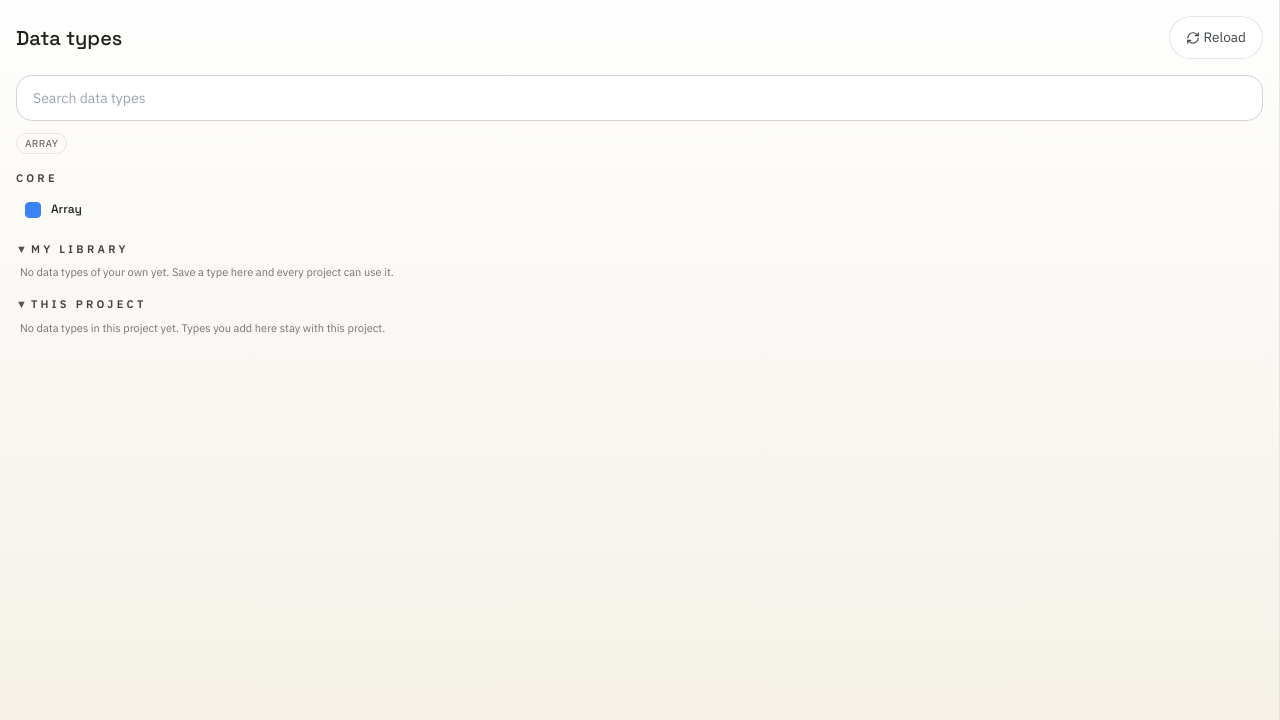
it: E5 — palette hover popovers › hides the type action row entirely for a core type (FR-019)
This screenshot has width=1280, height=720.
Hover over the element with test id "palette-type-row" at x=640, y=210, box [16,195,1263,225]
Wait 151 ms
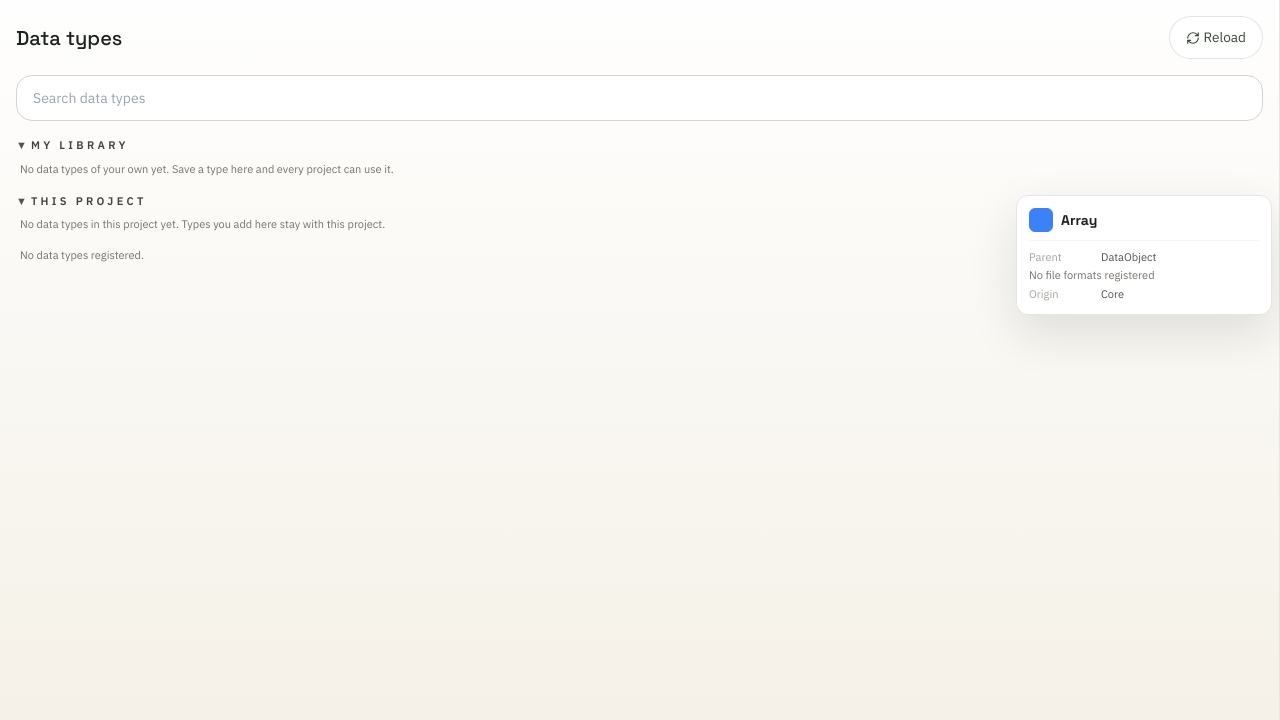
Result: the element with test id "type-detail-popover" is shown at [1016,195,1272,315]
